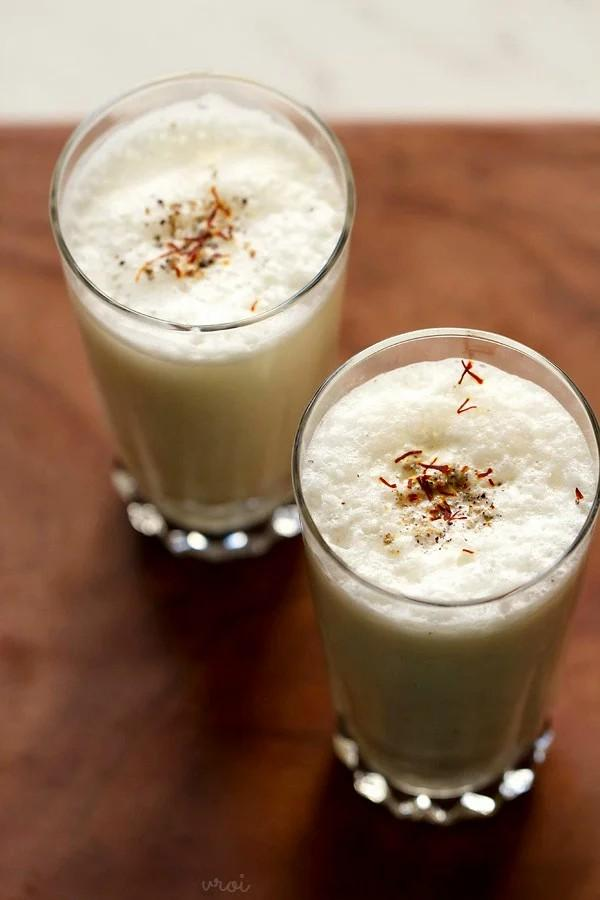Lassi: (302, 360, 600, 794), (55, 97, 347, 533)
